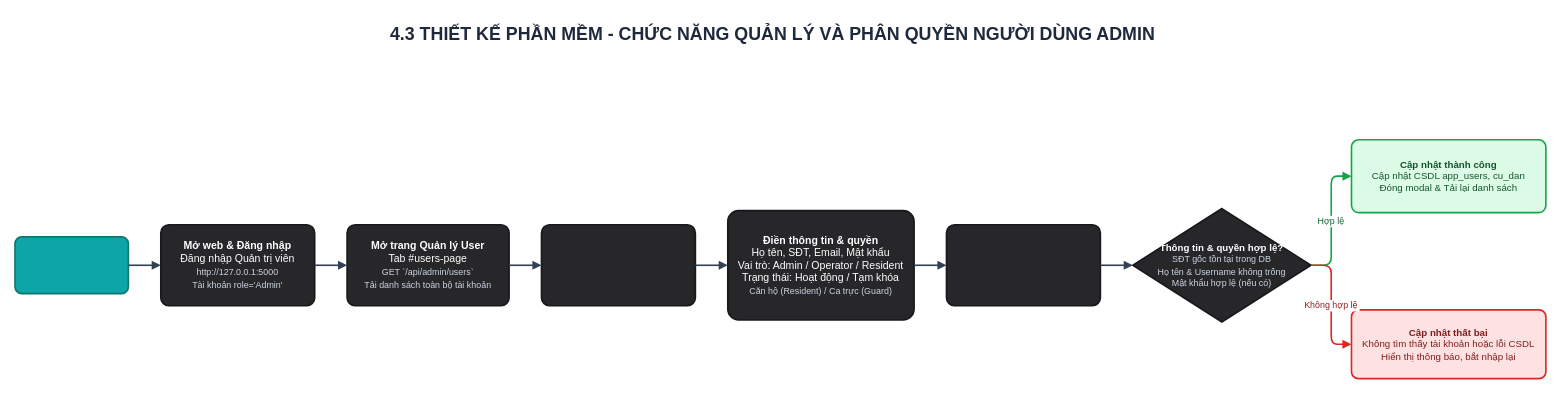
Image size: 1560x393. Some labels were removed from this diagram. Each missing label, with the box of its shape:
Bấm 'Lưu thay đổi' Gửi POST cập nhật dữ liệu POST `/api/admin/users/update`: (945, 224, 1101, 306)
Bấm nút 'Sửa' Chọn tài khoản trên bảng Mở Modal #editUserModal: (540, 224, 696, 306)
START: (14, 236, 129, 294)
